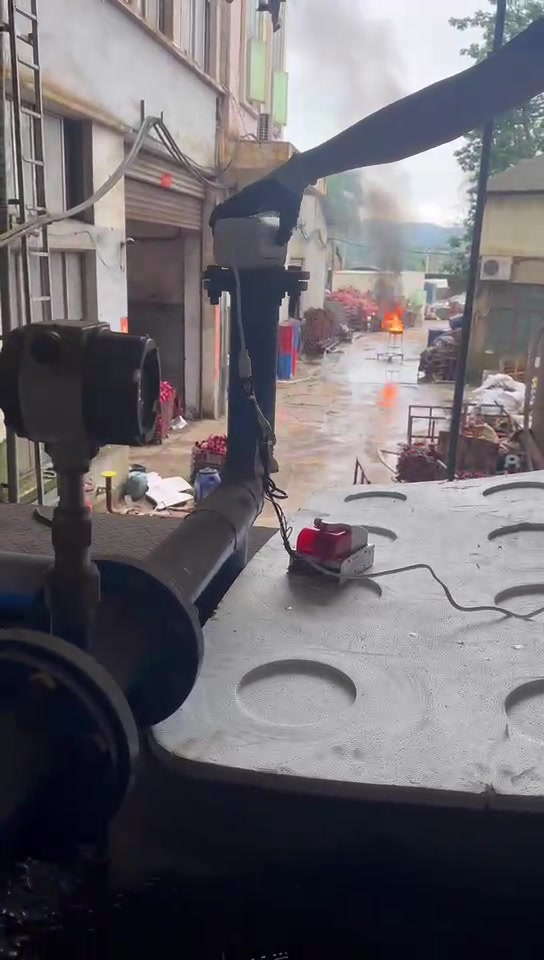fire: (382, 305, 403, 330)
